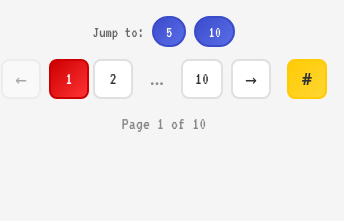
Pagination › Go to Page › shows go to input when toggle is clicked
This screenshot has width=344, height=221.
Click the button named "Go to specific page" at (307, 79), box [287,59,327,99]
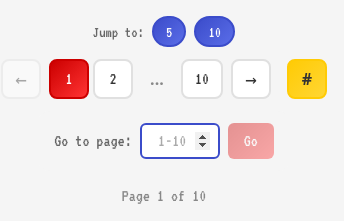
Expected: the number field is shown, [140,123,220,159]
